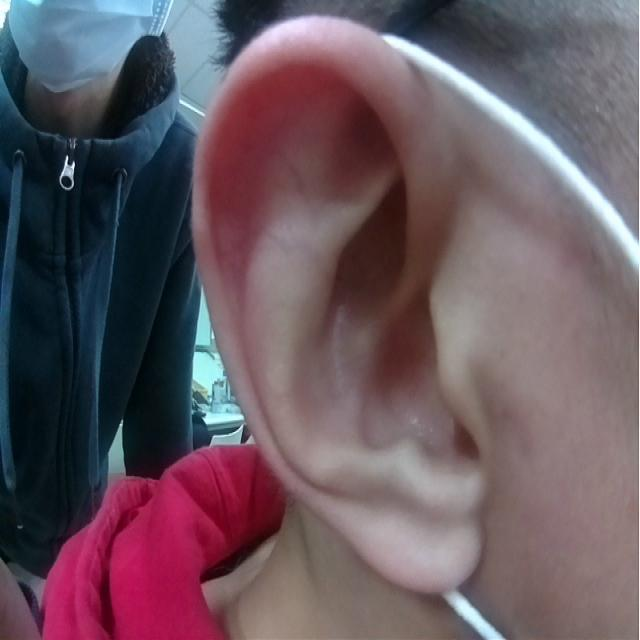no-earmuff: (187, 12, 481, 592)
